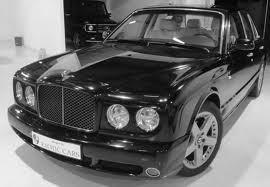car: (8, 8, 269, 177)
